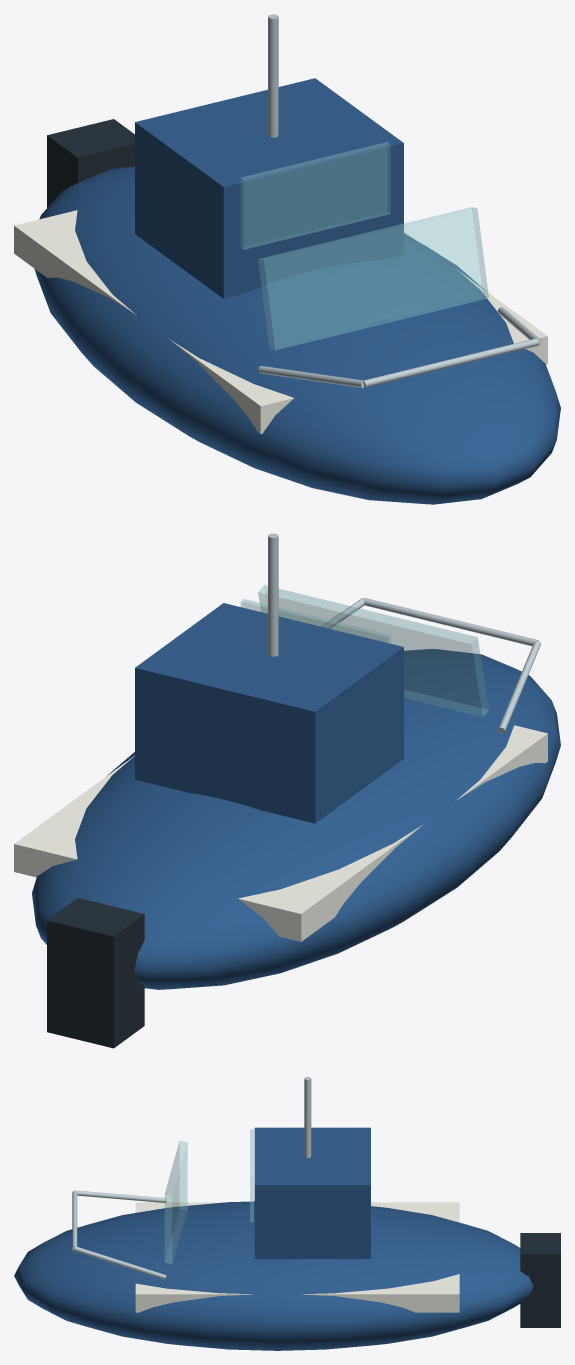
File: patrol-boat.glb
3 renders of one model, top to bottom at view 1: azimuth 30°, elevation 25°; view 2: azimuth 150°, elevation 25°; view 3: azimuth 270°, elevation 25°, orthographic. The views are drawn at different scales.
Parts seen in each view (by area): view 1: patrol-boat; view 2: patrol-boat; view 3: patrol-boat.
Part boxes in pixels (box(x1,y1,x2,y2)): patrol-boat: box(14, 14, 560, 504); patrol-boat: box(14, 533, 560, 1048); patrol-boat: box(14, 1077, 560, 1350).
Size of the model in its own units: 2.6 by 2.7 by 5.4.
